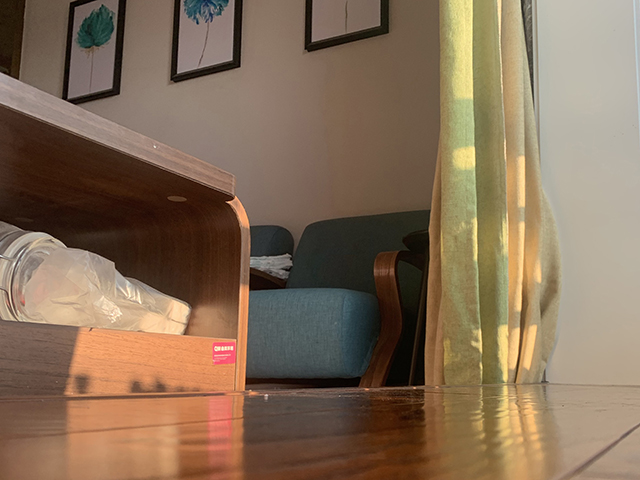curtain: (422, 1, 558, 386)
sofa: (247, 209, 430, 388)
table: (1, 73, 251, 397)
